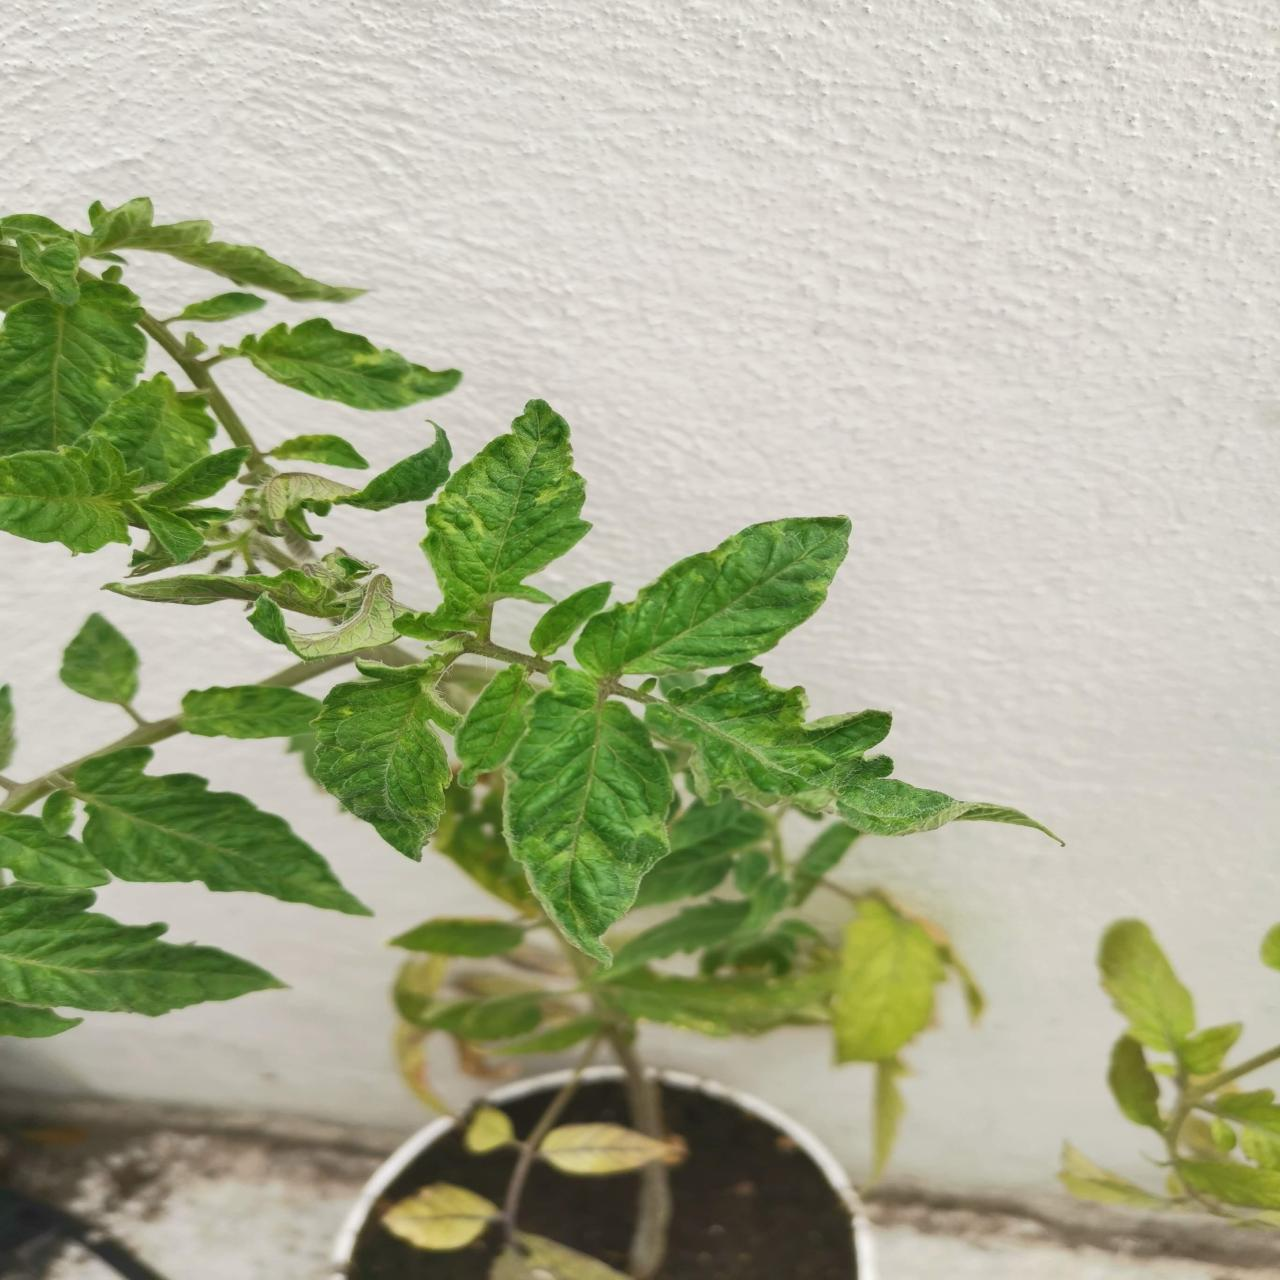T_L_R: (645, 663, 1068, 849), (502, 661, 678, 971), (74, 749, 372, 915), (571, 516, 851, 679), (421, 399, 597, 634), (1, 886, 281, 1016), (307, 655, 463, 862), (238, 319, 461, 411), (120, 445, 254, 566), (1, 440, 141, 554), (329, 422, 454, 511)
